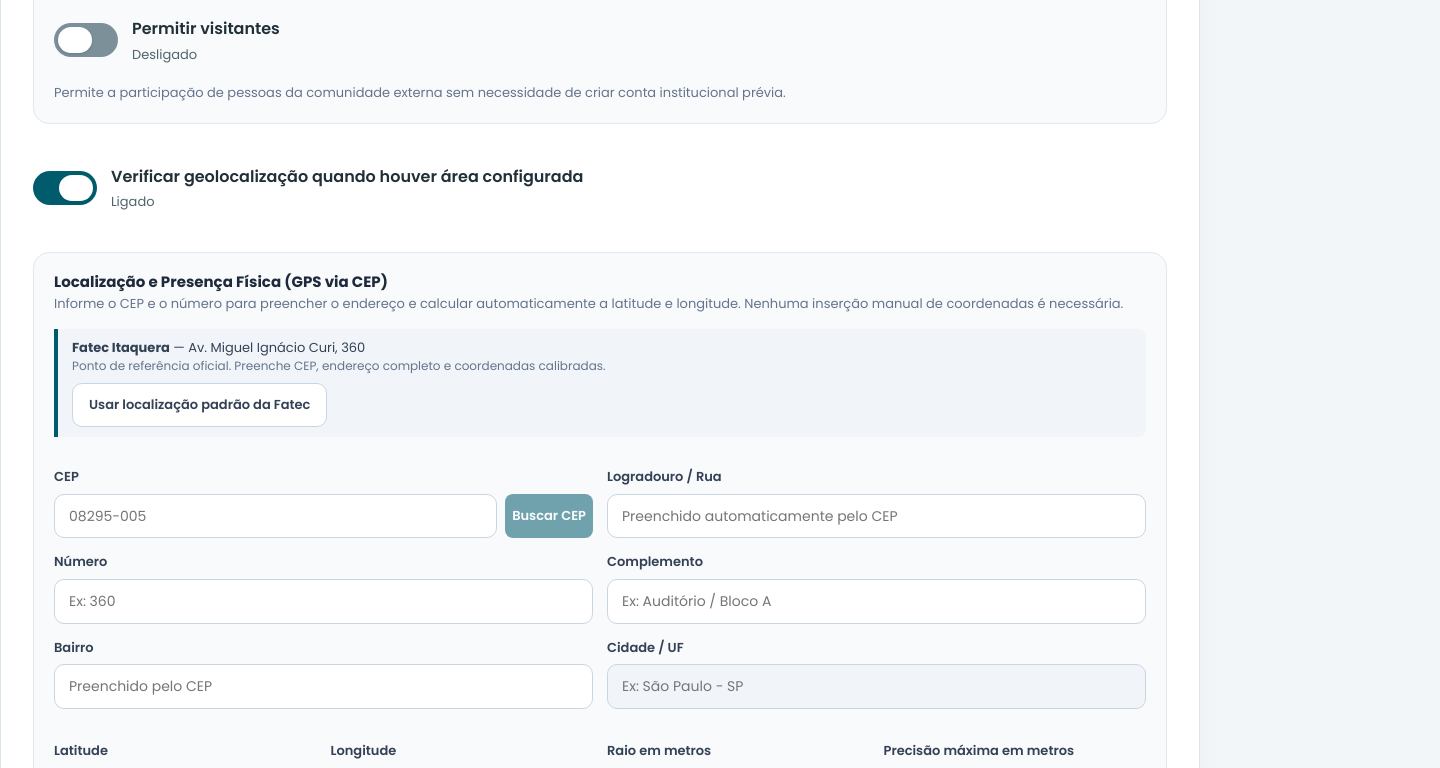
Test: Local padrão para configuração de eventos no formulário unificado › preserva a política salva de um evento existente até ação explícita
(page scrolled)
Check: the text "Av. Miguel Ignácio Curi, 360" is shown, box [188,338,365,357]
Substitui somente por ação explícita
Step 1. Click the button "Usar localização padrão da Fatec" → click(200, 405), box [72,383,327,427]
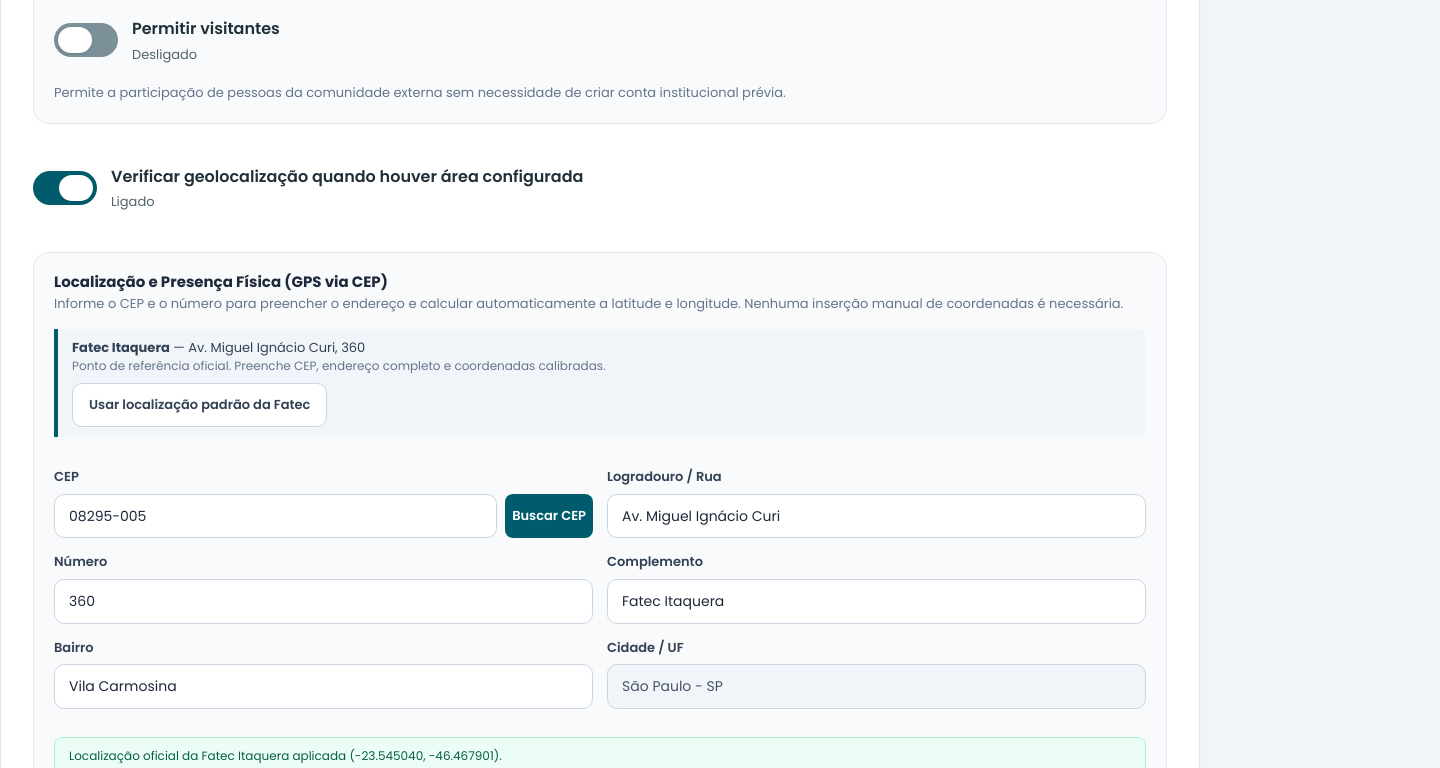
Check: the field labelled "CEP" holds "08295-005", box [54,494,497,538]
Check: the field labelled "Logradouro / Rua" holds "Av. Miguel Ignácio Curi", box [607,494,1146,538]
Check: the field labelled "Número" holds "360", box [54,579,593,624]
